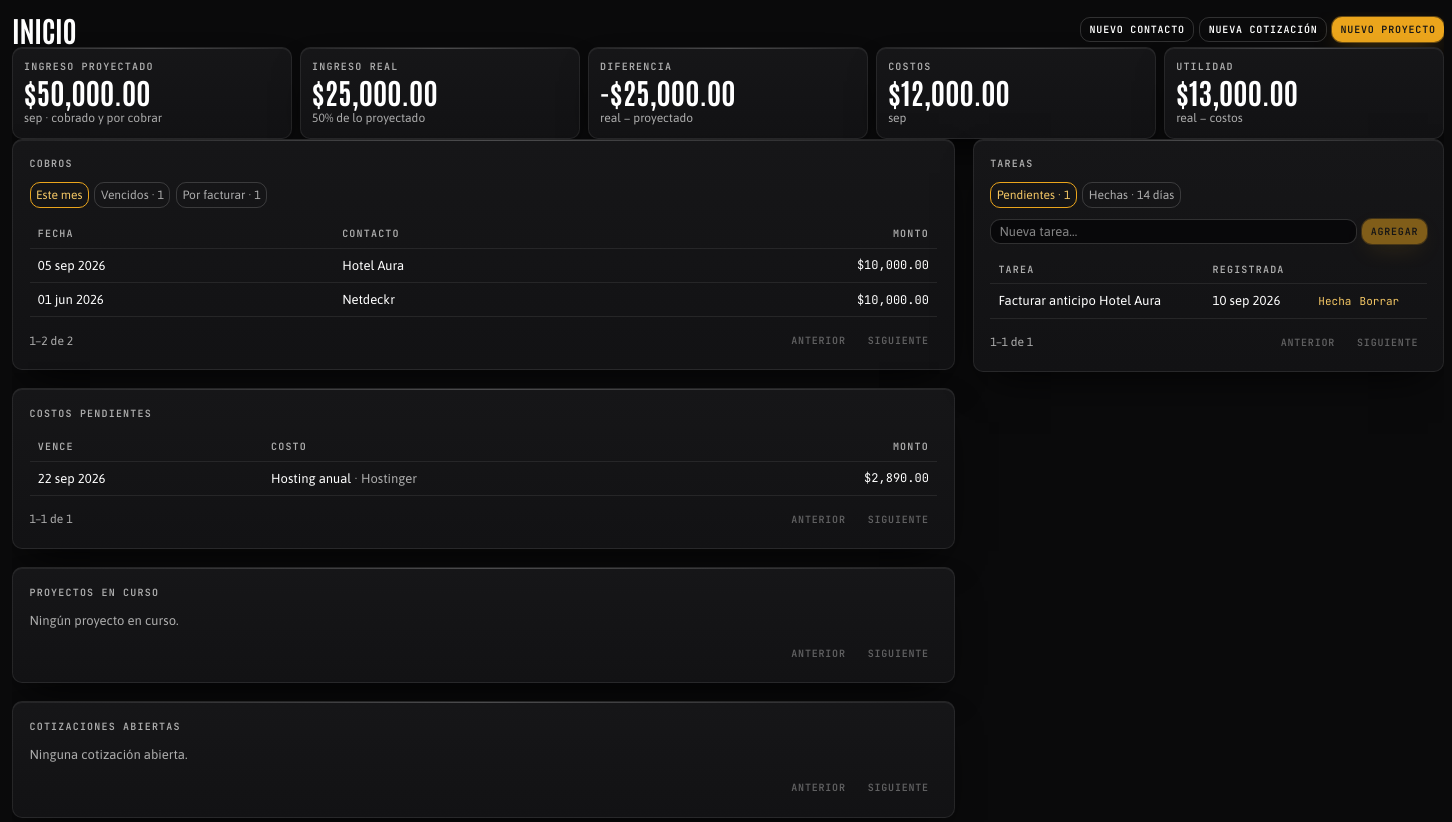
Test: Inicio › states the window main applies to done tasks when there are none
The width and height of the screenshot is (1452, 822).
Click the button "Hechas · 14 días": (1132, 195) [1082,182,1181,208]
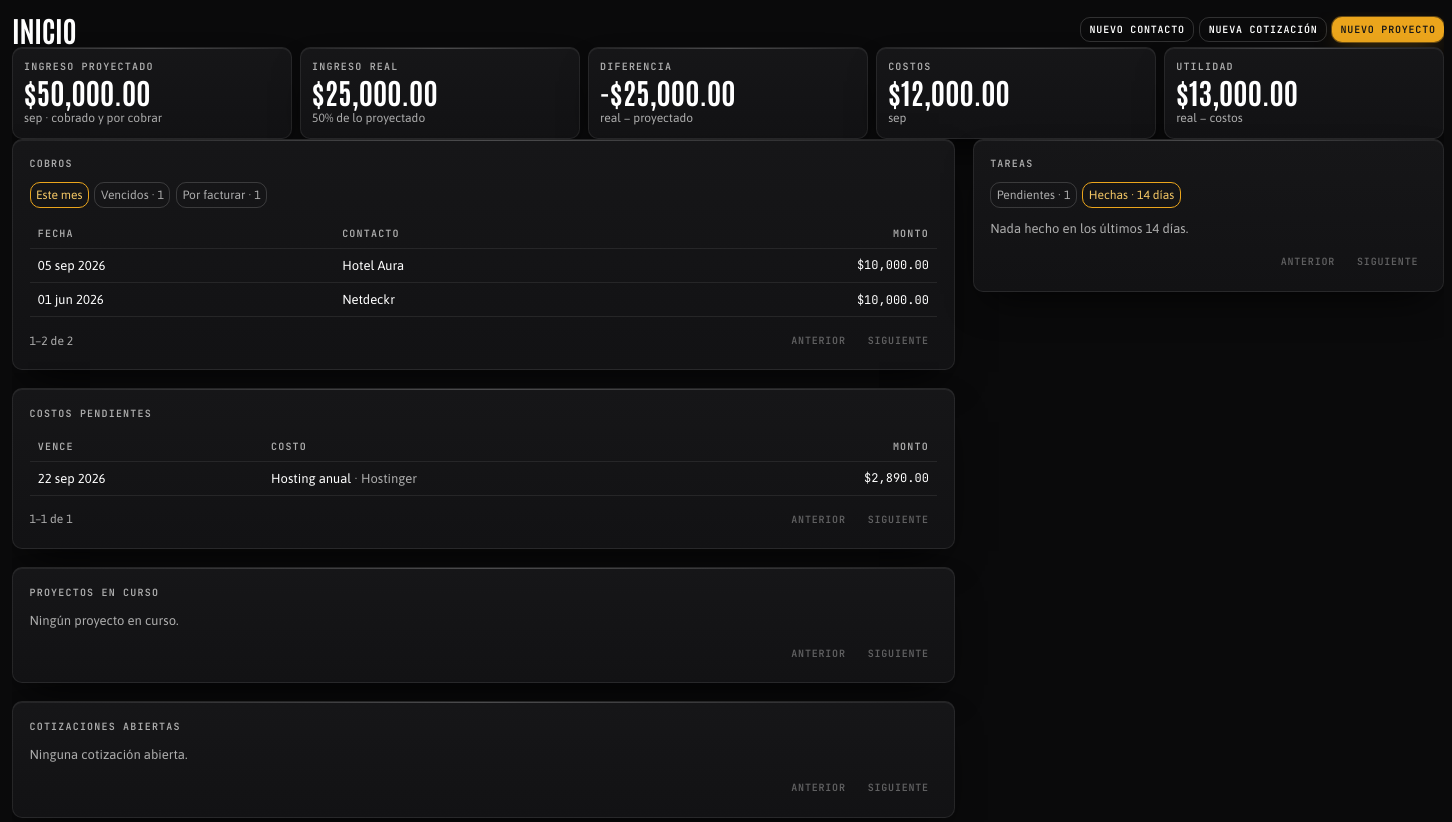
Check: the text "Nada hecho en los últimos 14 días." is shown, box [990,221,1188,236]
